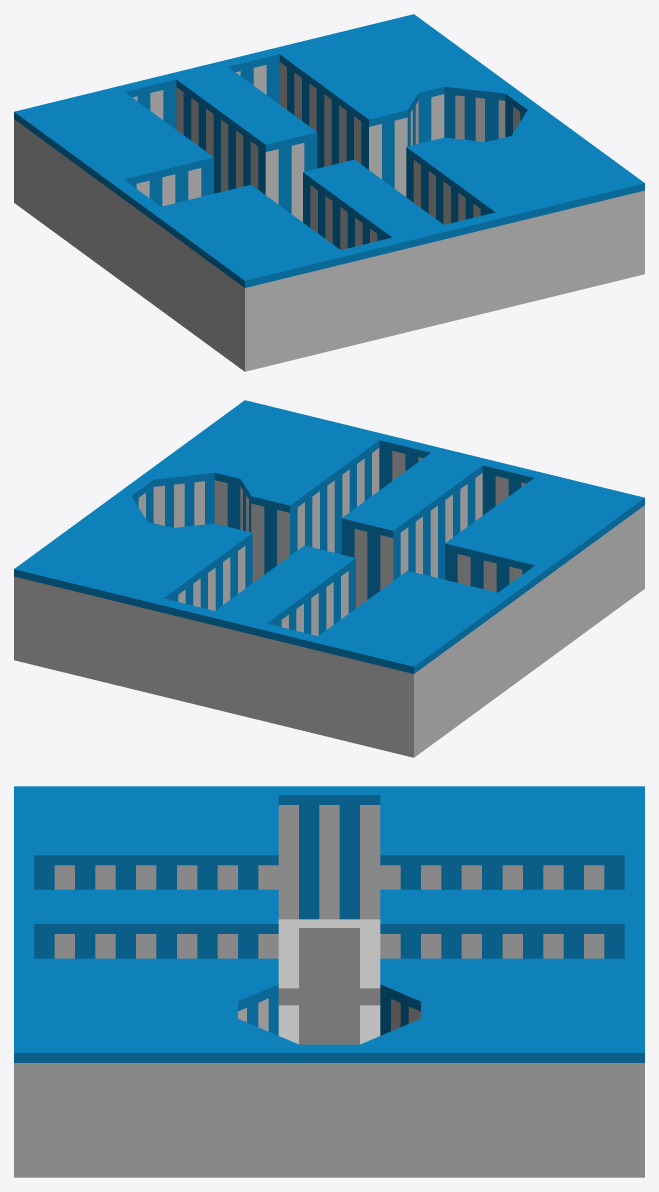
Rendered from levelobj3.fbx.
The picture shows the model from 3 angles, top to bottom: view 1: azimuth 30°, elevation 25°; view 2: azimuth 150°, elevation 25°; view 3: azimuth 270°, elevation 25°; orthographic projection. The views are drawn at different scales.
Parts seen in each view (by area): view 1: Plane; view 2: Plane; view 3: Plane.
Part boxes in pixels (box(x1,y1,x2,y2)): Plane: box(14, 14, 644, 371); Plane: box(14, 400, 644, 757); Plane: box(14, 786, 644, 1177).
Size of the model in its own units: 1600 by 348 by 1600.
